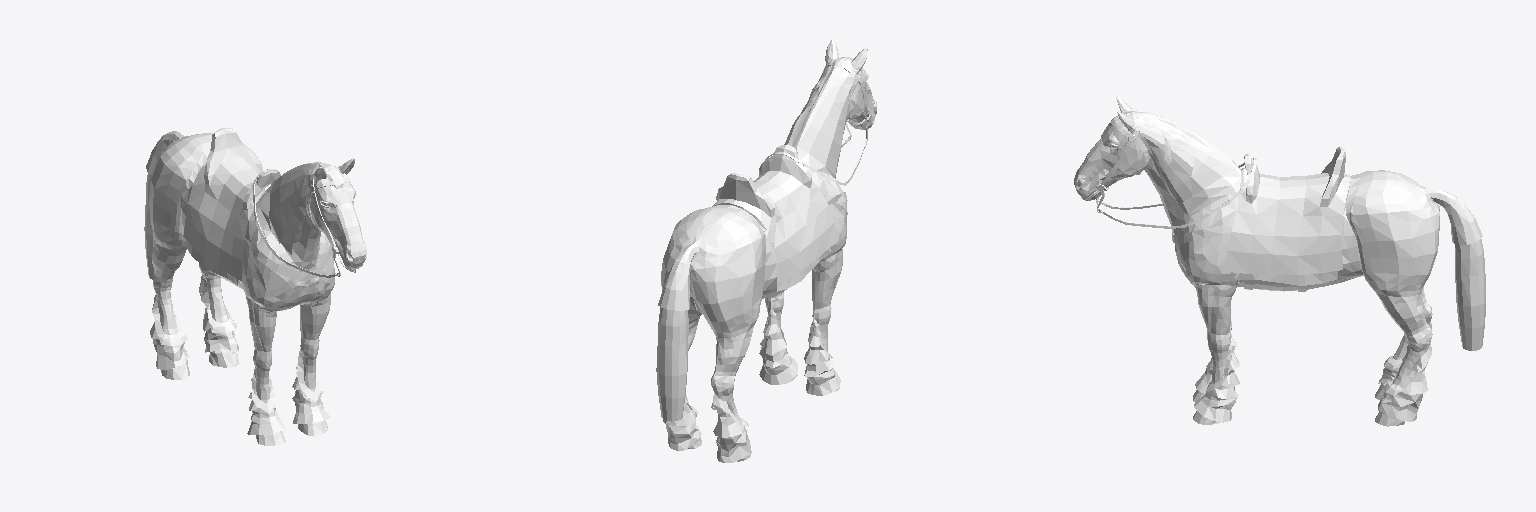
File: horse.obj
3 views of the same model, side by side, from view 1: azimuth 30°, elevation 25°; view 2: azimuth 150°, elevation 25°; view 3: azimuth 270°, elevation 25° (orthographic).
Parts seen in each view (by area): view 1: horse, horse1; view 2: horse, horse1; view 3: horse, horse1.
Part boxes in pixels (x1,y1,x2,y2): horse: (149, 128, 366, 445); horse1: (144, 131, 345, 434); horse: (661, 40, 876, 461); horse1: (656, 69, 868, 462); horse: (1074, 95, 1439, 426); horse1: (1101, 123, 1485, 422).
Size of the model in its own units: 28.91 by 94.54 by 115.